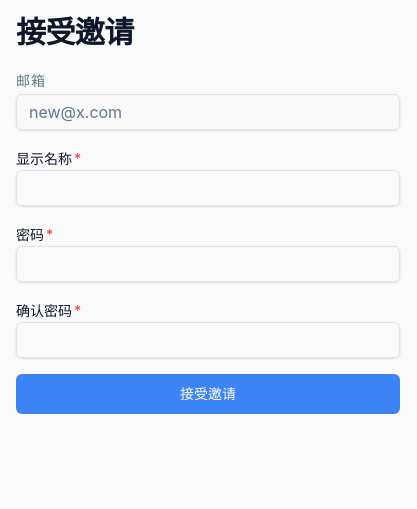
Test: InviteRedeemPage › 密码 < 8 → 客户端校验
Check: the field with test id "email-input" holds "new@x.com", box [16,94,400,130]
In the field with test id "name-input": (208, 188) [16,170,400,206], type "u"
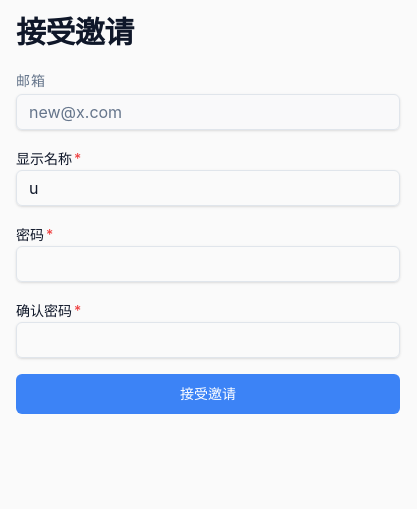
In the password field with test id "password-input": (208, 264) [16,246,400,282], type "short"
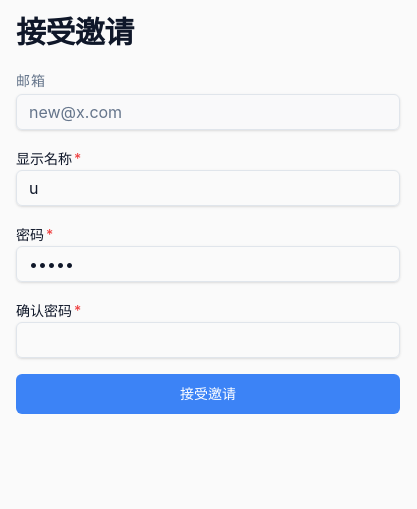
In the password field with test id "confirm-input": (208, 340) [16,322,400,358], type "short"
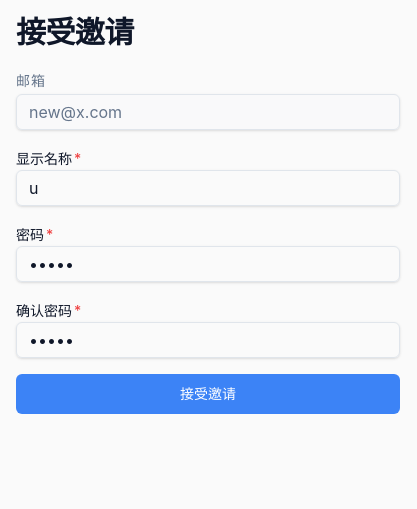
Click the button with test id "submit": (208, 394) [16,374,400,414]
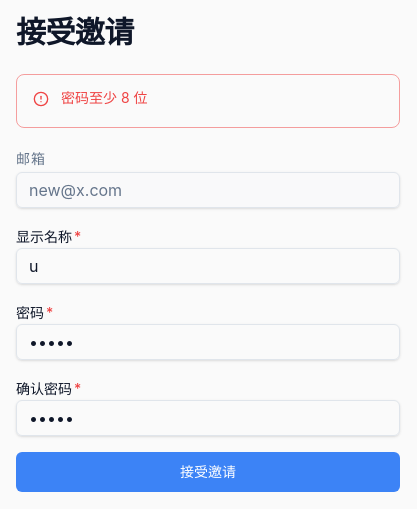
Check: the text "密码至少 8 位" is shown, box [61,89,148,106]
